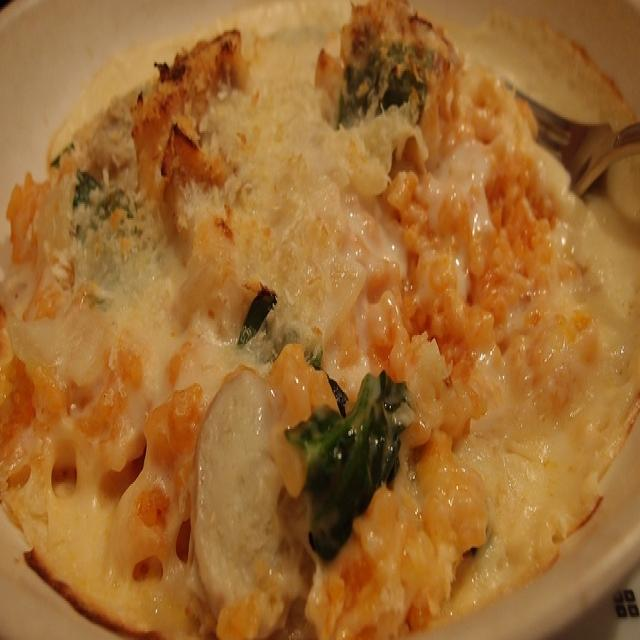米饭主食: (8, 12, 622, 604)
